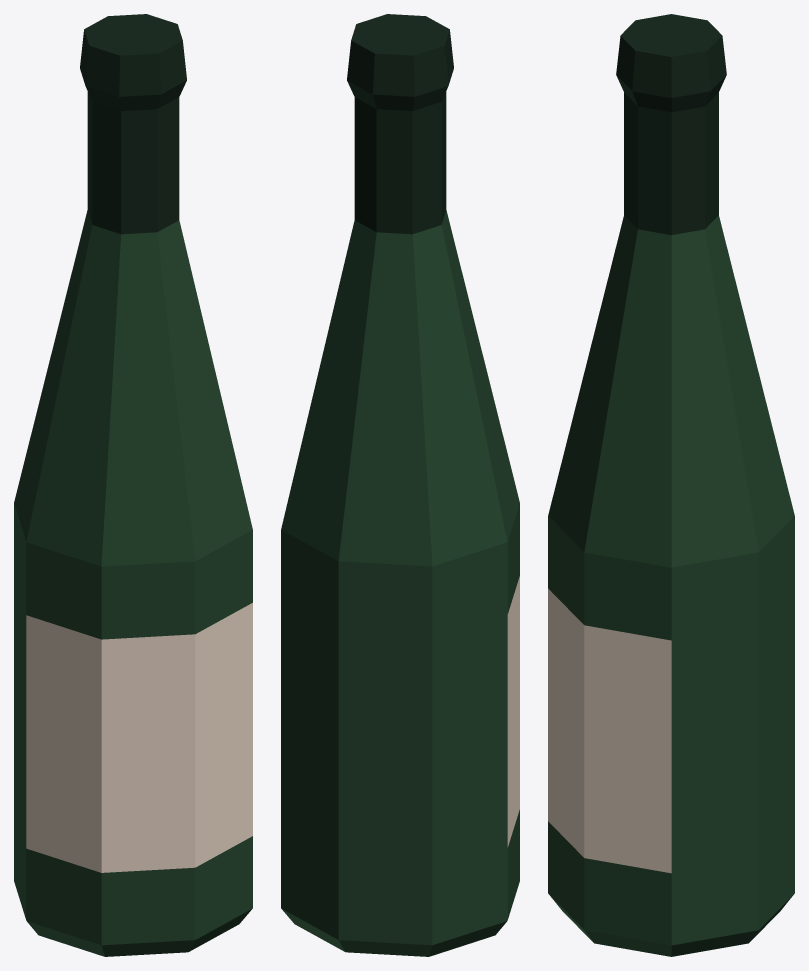
File: wine-bottle-white.glb
The picture shows the model from 3 angles, left to right: view 1: azimuth 30°, elevation 25°; view 2: azimuth 150°, elevation 25°; view 3: azimuth 270°, elevation 25°; orthographic projection.
Parts seen in each view (by area): view 1: wine-bottle-white; view 2: wine-bottle-white; view 3: wine-bottle-white.
Part boxes in pixels (x1,y1,x2,y2): wine-bottle-white: (14, 14, 252, 956); wine-bottle-white: (281, 14, 519, 956); wine-bottle-white: (548, 14, 794, 956).
Bounding box in the file's own units: 0.0847 × 0.3317 × 0.0847.
1 material, 1 textured.
